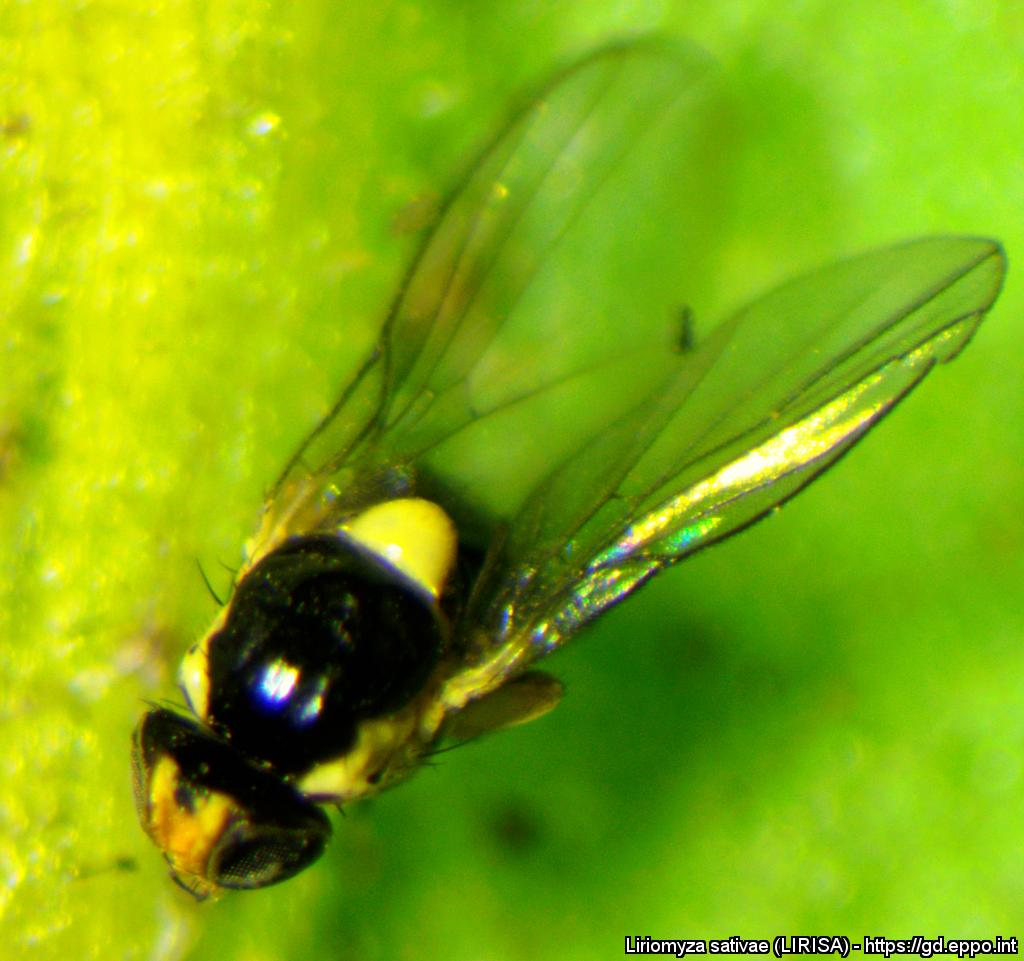Trifoli: (110, 30, 982, 917)
